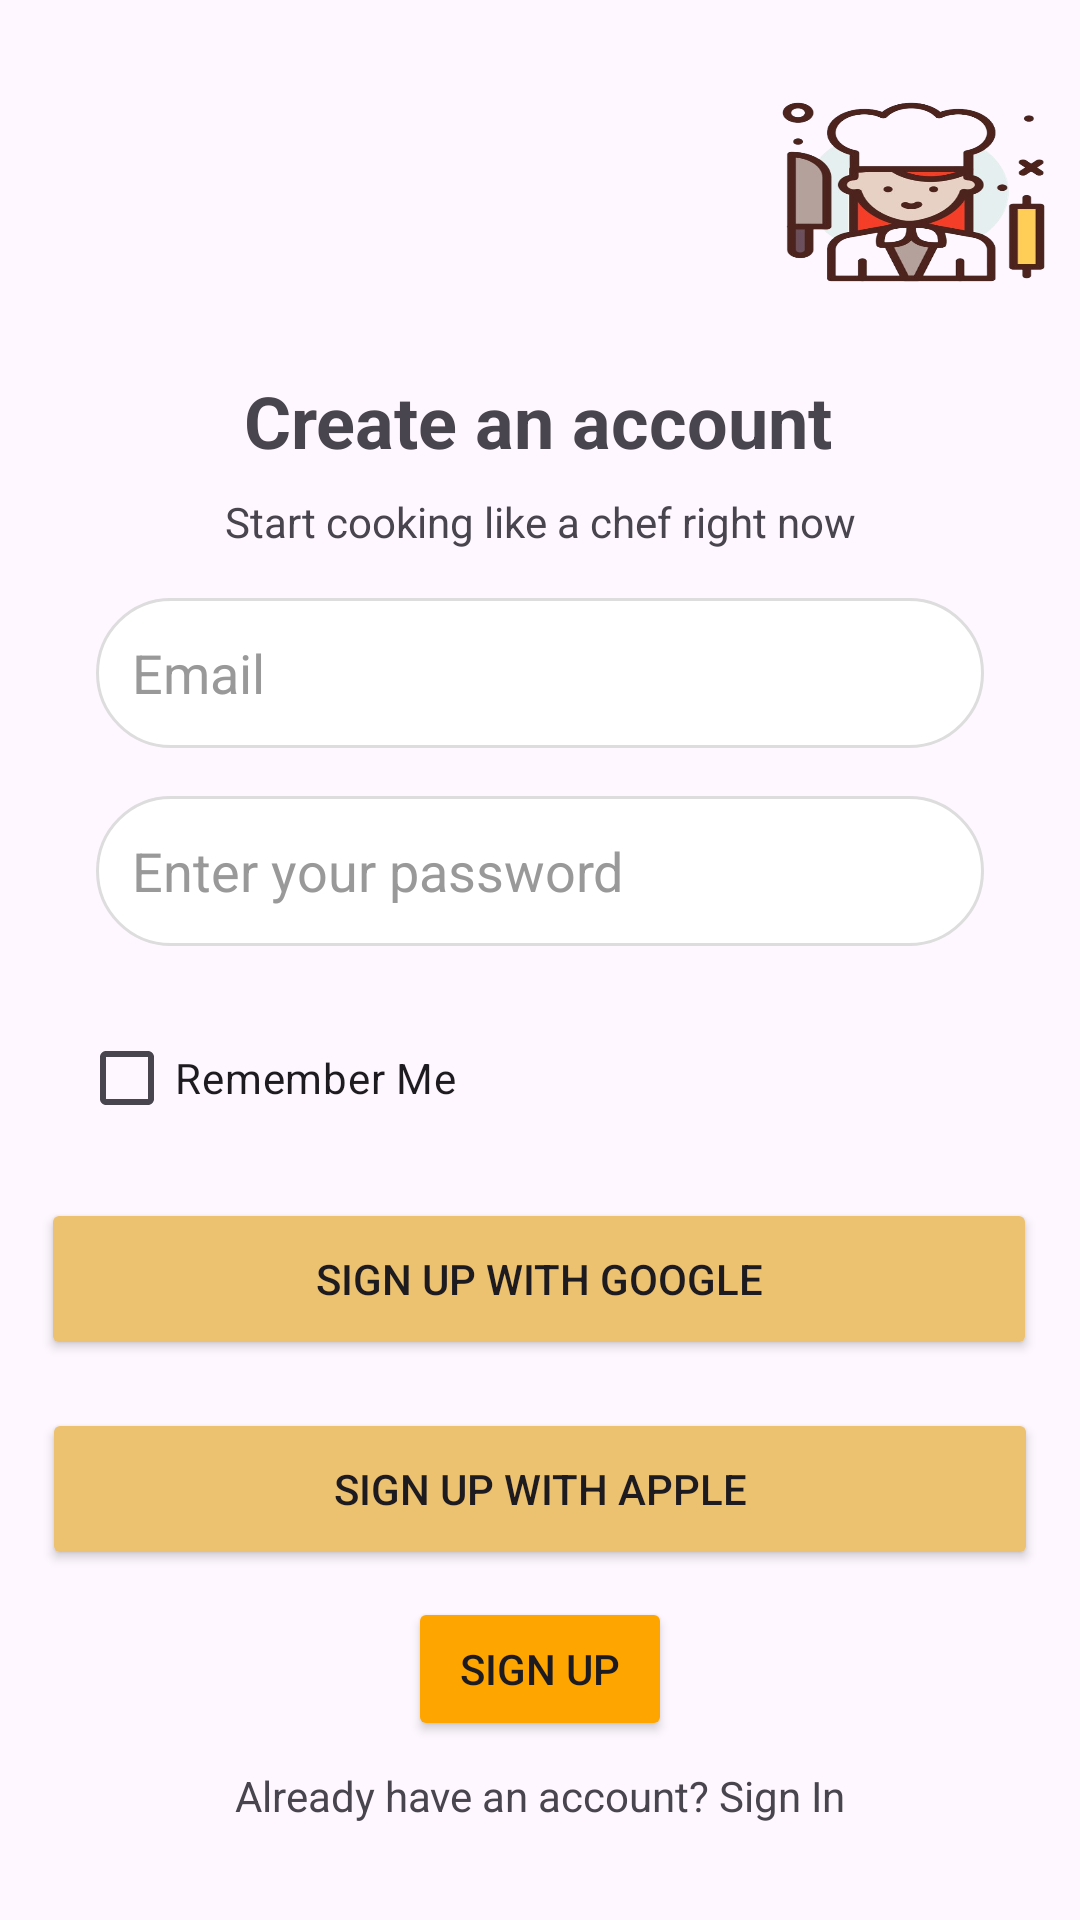

Icon click points for this 1080 x 1920 phone screenshot, format (x=x, y=y):
cooking mama: (x=913, y=192)
